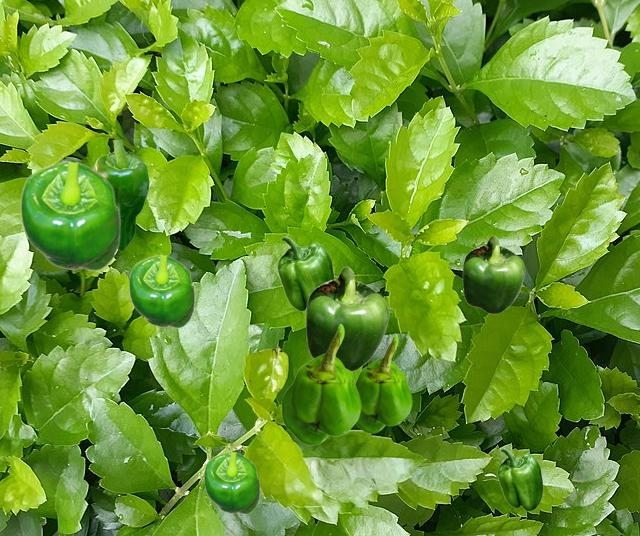bell_pepper: (19, 160, 120, 270), (281, 323, 360, 444), (305, 266, 388, 371), (93, 140, 148, 250), (356, 333, 411, 432), (462, 235, 524, 313), (128, 254, 194, 327), (277, 236, 334, 311), (203, 451, 259, 513), (497, 448, 542, 510)
